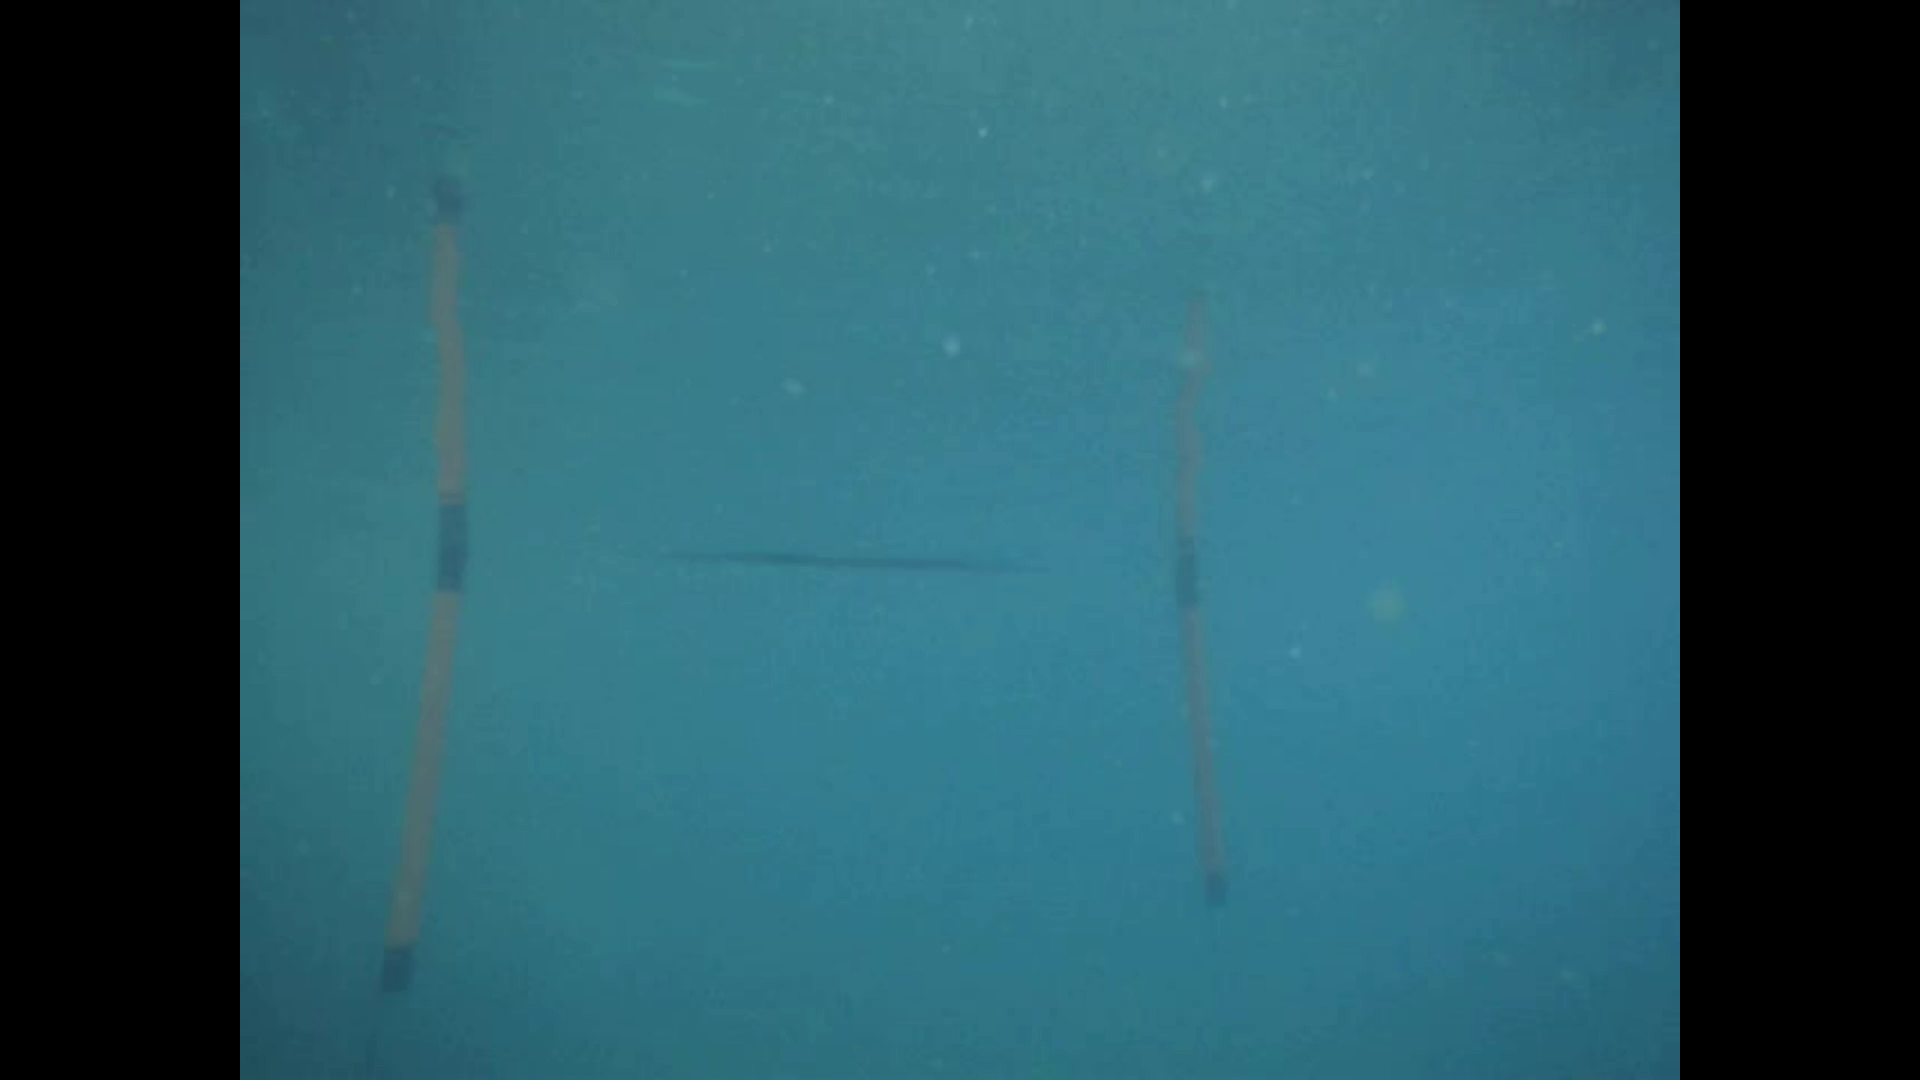gate: (371, 553, 1242, 1002)
